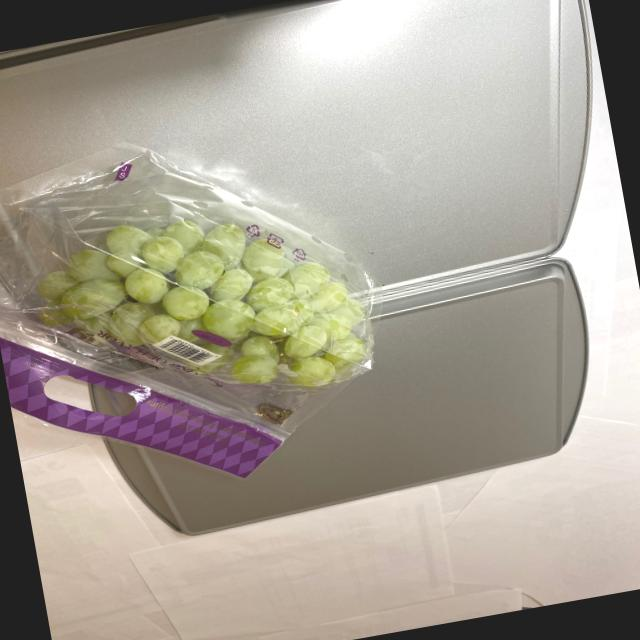grapes: (16, 175, 392, 448)
